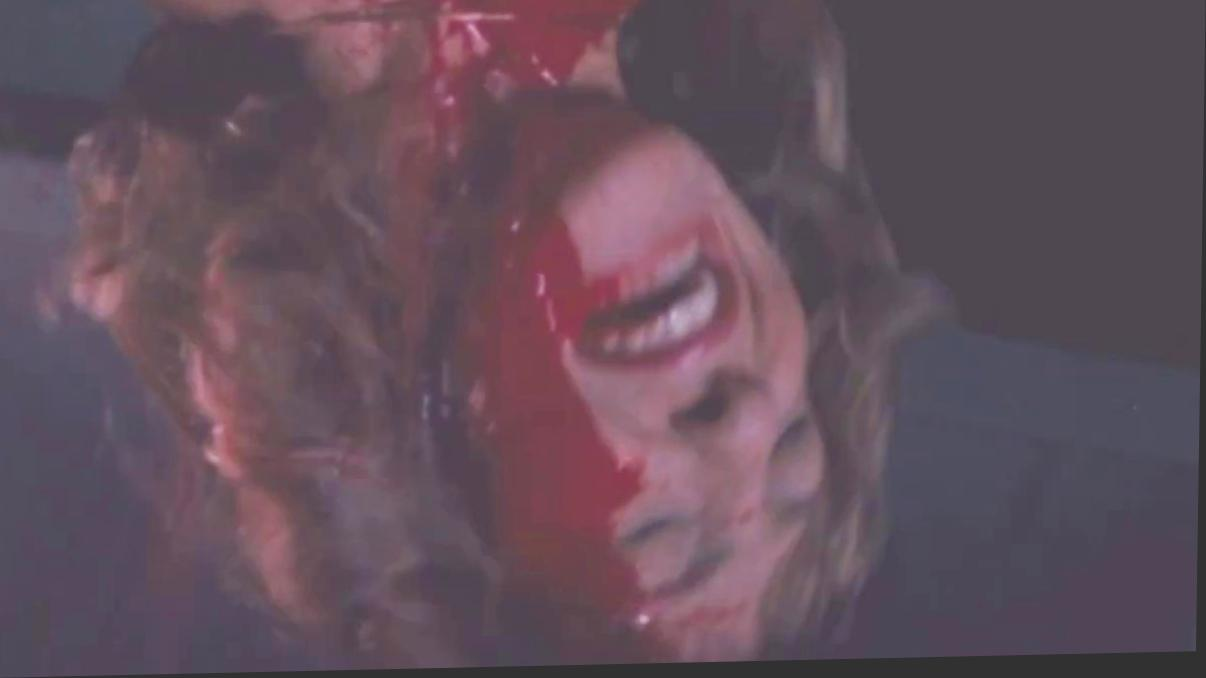Fire: (374, 0, 685, 668)
